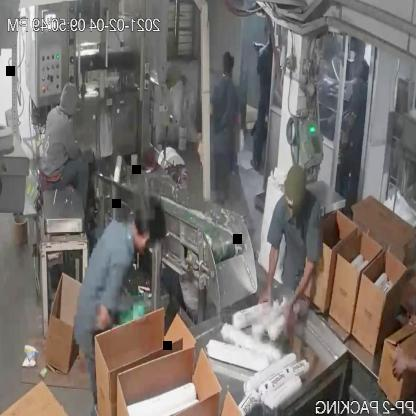no_glove: (280, 251, 319, 330), (253, 233, 281, 319), (378, 348, 416, 387)
